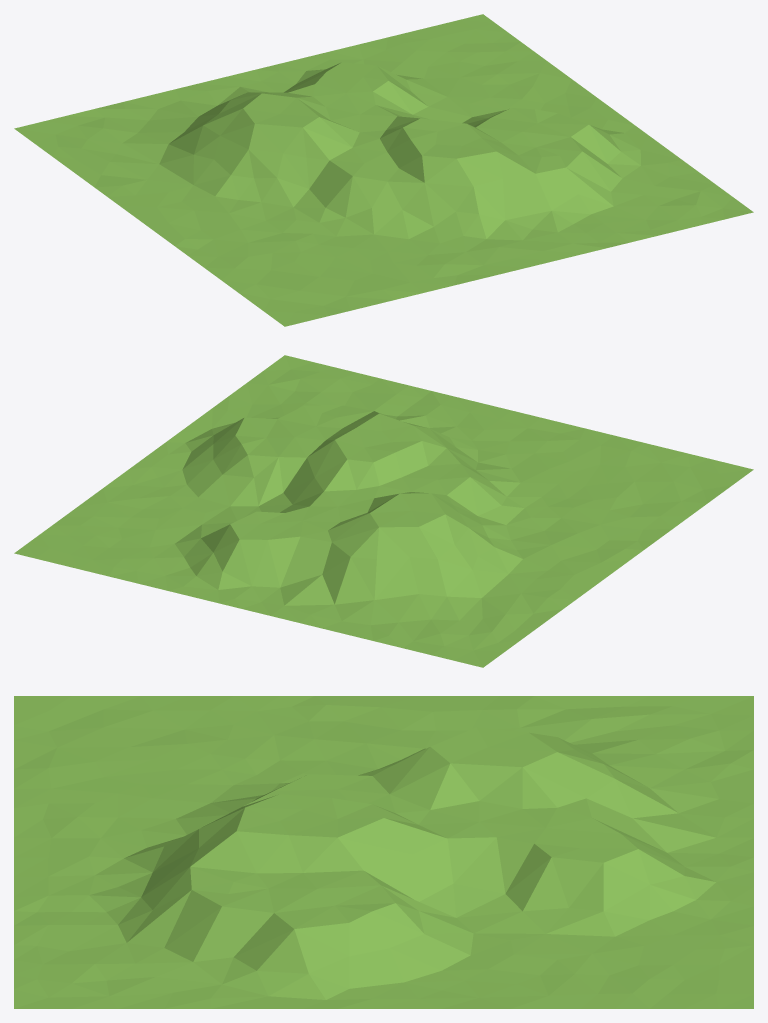
File: MT_Terrain_M_c_05.fbx
3 views of the same model, one above another, from view 1: azimuth 30°, elevation 25°; view 2: azimuth 150°, elevation 25°; view 3: azimuth 270°, elevation 25° (orthographic). The views are drawn at different scales.
Parts seen in each view (by area): view 1: MT_Terrain_M_c_05; view 2: MT_Terrain_M_c_05; view 3: MT_Terrain_M_c_05.
Part boxes in pixels (x1,y1,x2,y2): MT_Terrain_M_c_05: (14, 14, 753, 326); MT_Terrain_M_c_05: (14, 355, 753, 667); MT_Terrain_M_c_05: (14, 696, 753, 1008).
Size of the model in its own units: 5000 by 479 by 5000.
